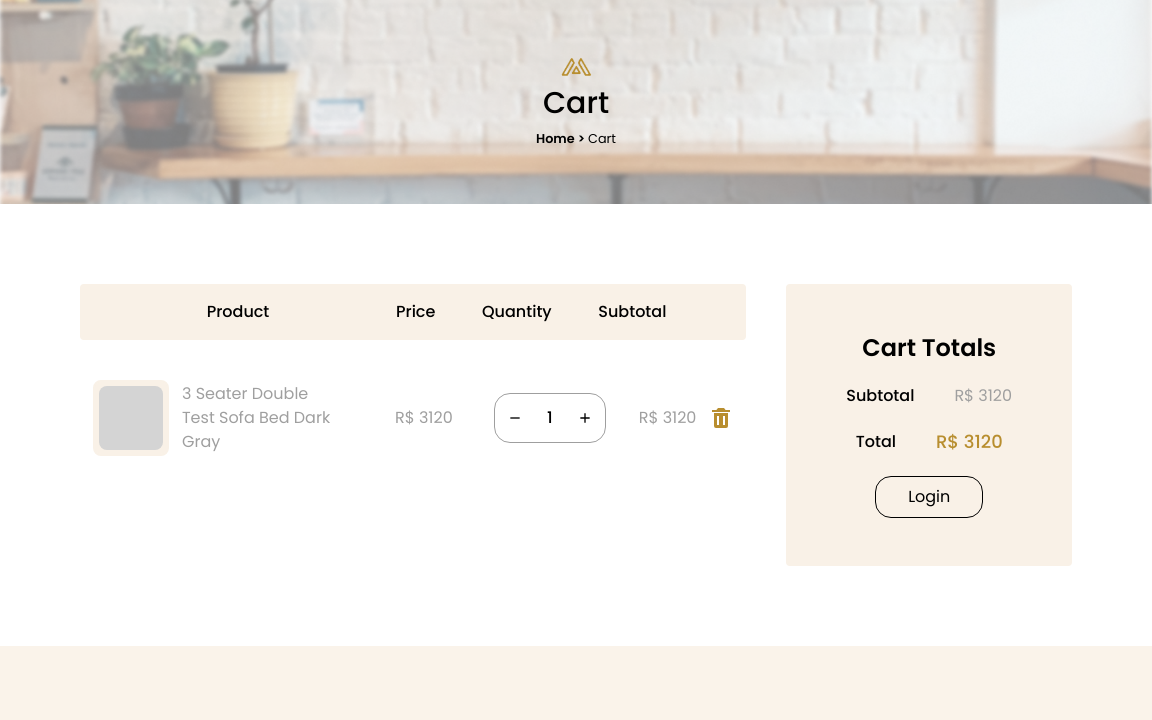
Test: <Cart /> › should increase an item quantity when clicking in '+' icon
Click the element with test id "increaseIcon" at (585, 418), box x1=577 y1=410 x2=593 y2=426
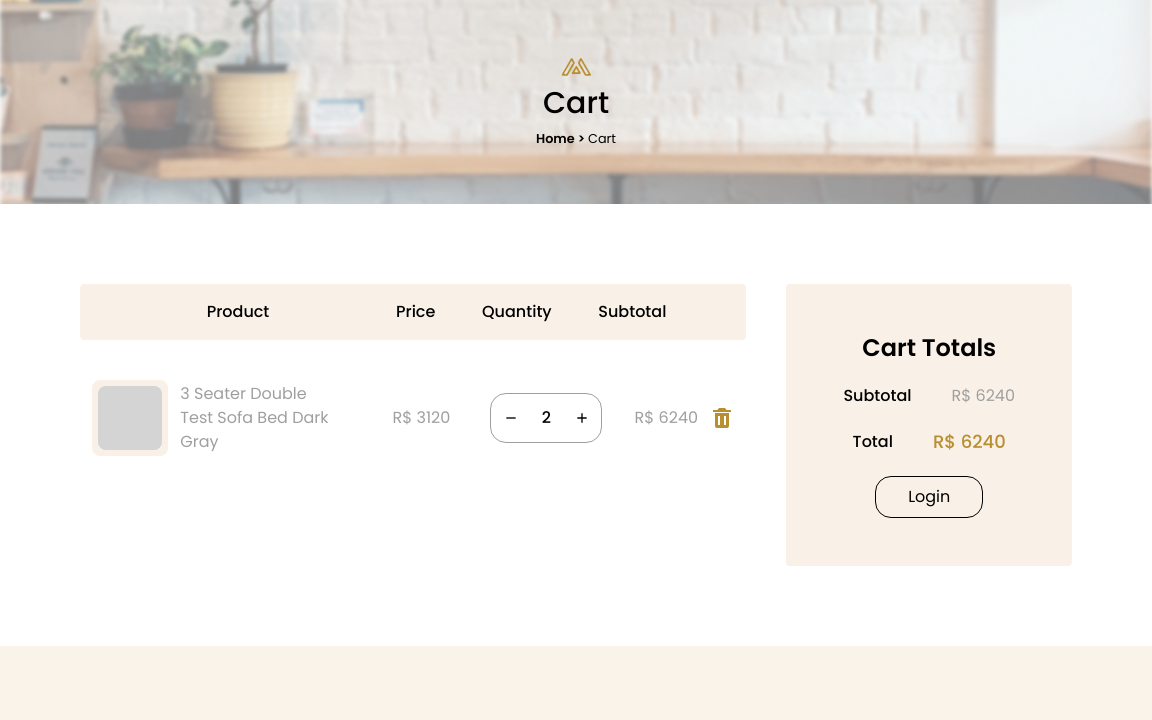
expect the text with test id "cartQuantity" reads "2": met, box x1=542 y1=406 x2=551 y2=429
